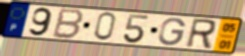0: (92, 11, 118, 43)
5: (122, 13, 152, 45)
9: (27, 7, 55, 38)
B: (50, 7, 87, 41)
G: (157, 17, 187, 47)
R: (184, 18, 218, 51)
